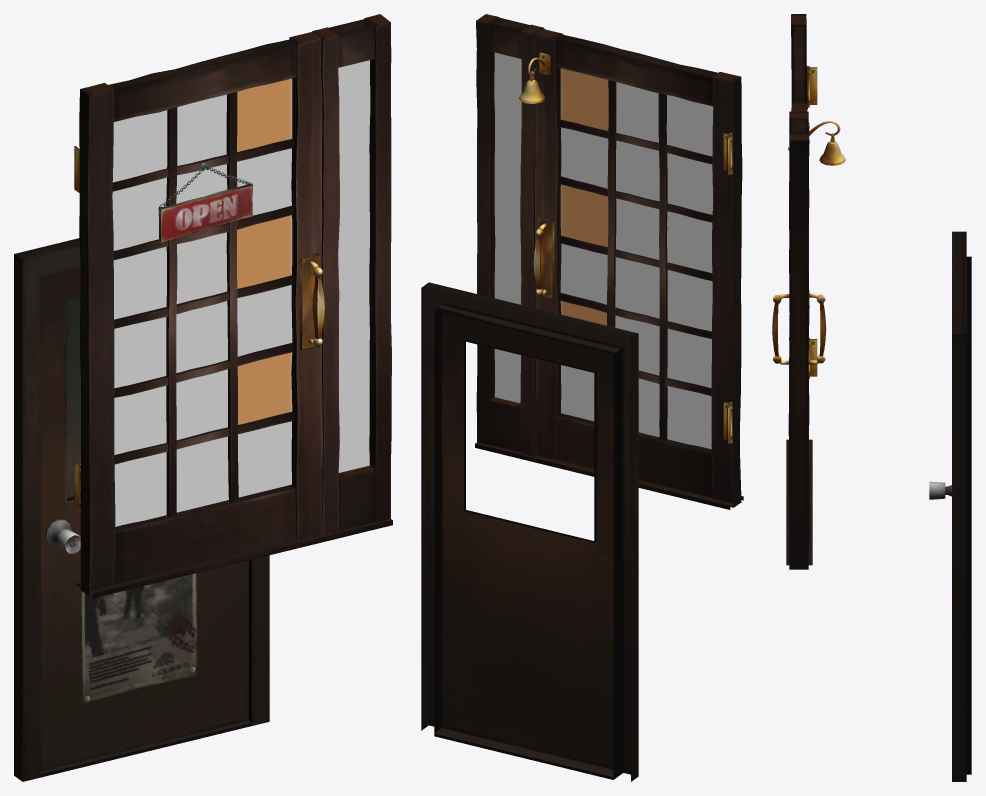
The model's file is 两个门.fbx.
3 renders of one model, left to right at view 1: azimuth 30°, elevation 25°; view 2: azimuth 150°, elevation 25°; view 3: azimuth 270°, elevation 25°, orthographic. The views are drawn at different scales.
Parts seen in each view (by area): view 1: doorA_meshId0, doorA.004_meshId4, 繧ｪ繝悶ず繧ｧ繧ｯ繝・7_meshId0.001, door_wc_meshId3.001, doorA_frame_meshId11, doorA.001_meshId1, doorA_frame.003_meshId14, 繧ｪ繝悶ず繧ｧ繧ｯ繝・7.002_meshId2.001, doorA.005_meshId5, doorA_frame.001_meshId12, plate_meshId7, 繧ｪ繝悶ず繧ｧ繧ｯ繝・7.001_meshId1.001 (+2 smaller); view 2: 繧ｪ繝悶ず繧ｧ繧ｯ繝・7_meshId0.001, doorA_meshId0, doorA.004_meshId4, door_wc_meshId3.001, doorA_frame_meshId11, doorA.001_meshId1, doorA_frame.003_meshId14, doorA.005_meshId5, doorA_frame.001_meshId12, doorA.003_meshId3, doorA.002_meshId2; view 3: door_wc_meshId3.001, doorA_frame.001_meshId12, doorA.001_meshId1, 繧ｪ繝悶ず繧ｧ繧ｯ繝・7_meshId0.001, doorA_frame.002_meshId13, doorA.003_meshId3, doorA.002_meshId2, bell.001_meshId10, doorA_frame_meshId11.
Part boxes in pixels (x1,y1,x2,y2): doorA_meshId0: [87, 38, 322, 596]; doorA.004_meshId4: [112, 94, 292, 526]; 繧ｪ繝悶ず繧ｧ繧ｯ繝・7_meshId0.001: [40, 267, 248, 771]; door_wc_meshId3.001: [14, 238, 269, 781]; doorA_frame_meshId11: [322, 22, 391, 534]; doorA.001_meshId1: [79, 31, 320, 596]; doorA_frame.003_meshId14: [338, 60, 370, 472]; 繧ｪ繝悶ず繧ｧ繧ｯ繝・7.002_meshId2.001: [81, 573, 197, 703]; doorA.005_meshId5: [237, 78, 292, 424]; doorA_frame.001_meshId12: [77, 14, 392, 598]; plate_meshId7: [161, 185, 252, 242]; 繧ｪ繝悶ず繧ｧ繧ｯ繝・7.001_meshId1.001: [66, 297, 80, 498]; 繧ｪ繝悶ず繧ｧ繧ｯ繝・7_meshId0.001: [439, 305, 620, 769]; doorA_meshId0: [535, 34, 734, 507]; doorA.004_meshId4: [560, 82, 713, 449]; door_wc_meshId3.001: [421, 282, 638, 781]; doorA_frame_meshId11: [476, 21, 534, 456]; doorA.001_meshId1: [535, 29, 742, 507]; doorA_frame.003_meshId14: [494, 52, 521, 403]; doorA.005_meshId5: [560, 68, 608, 325]; doorA_frame.001_meshId12: [475, 14, 743, 509]; doorA.003_meshId3: [530, 52, 729, 439]; doorA.002_meshId2: [528, 57, 547, 296]; door_wc_meshId3.001: [952, 231, 971, 781]; doorA_frame.001_meshId12: [786, 111, 812, 569]; doorA.001_meshId1: [778, 14, 807, 353]; 繧ｪ繝悶ず繧ｧ繧ｯ繝・7_meshId0.001: [929, 257, 966, 771]; doorA_frame.002_meshId13: [806, 66, 817, 378]; doorA.003_meshId3: [772, 69, 834, 356]; doorA.002_meshId2: [772, 121, 840, 364]; bell.001_meshId10: [819, 141, 845, 165]; doorA_frame_meshId11: [788, 136, 809, 553].
Size of the model in its own units: 127 by 304 by 84.22.
Materials: 11 (11 with a texture image).
